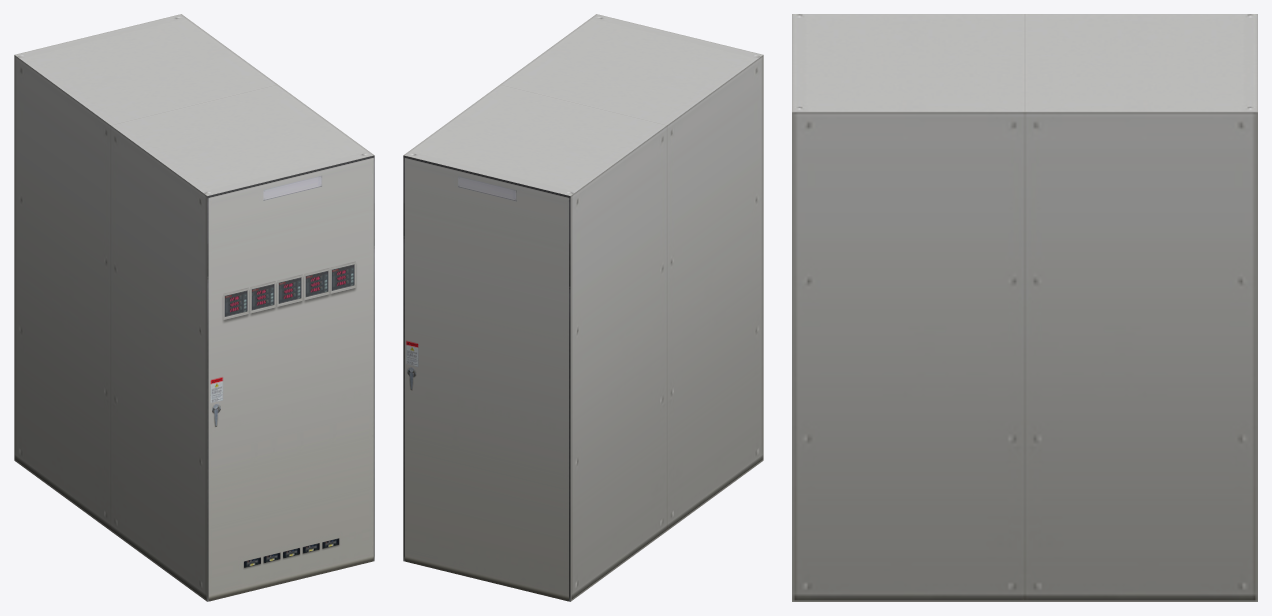
The picture shows the model from 3 angles, left to right: view 1: azimuth 30°, elevation 25°; view 2: azimuth 150°, elevation 25°; view 3: azimuth 270°, elevation 25°; orthographic projection. The views are drawn at different scales.
Parts seen in each view (by area): view 1: LV-2H3; view 2: LV-2H3; view 3: LV-2H3.
Boxes of the visible parts, box(x1,y1,x2,y2) form: LV-2H3: box(14, 14, 374, 601); LV-2H3: box(403, 14, 763, 601); LV-2H3: box(792, 14, 1257, 601).
Size of the model in its own units: 1.1 by 2.55 by 2.2.
1 material, 1 textured.
